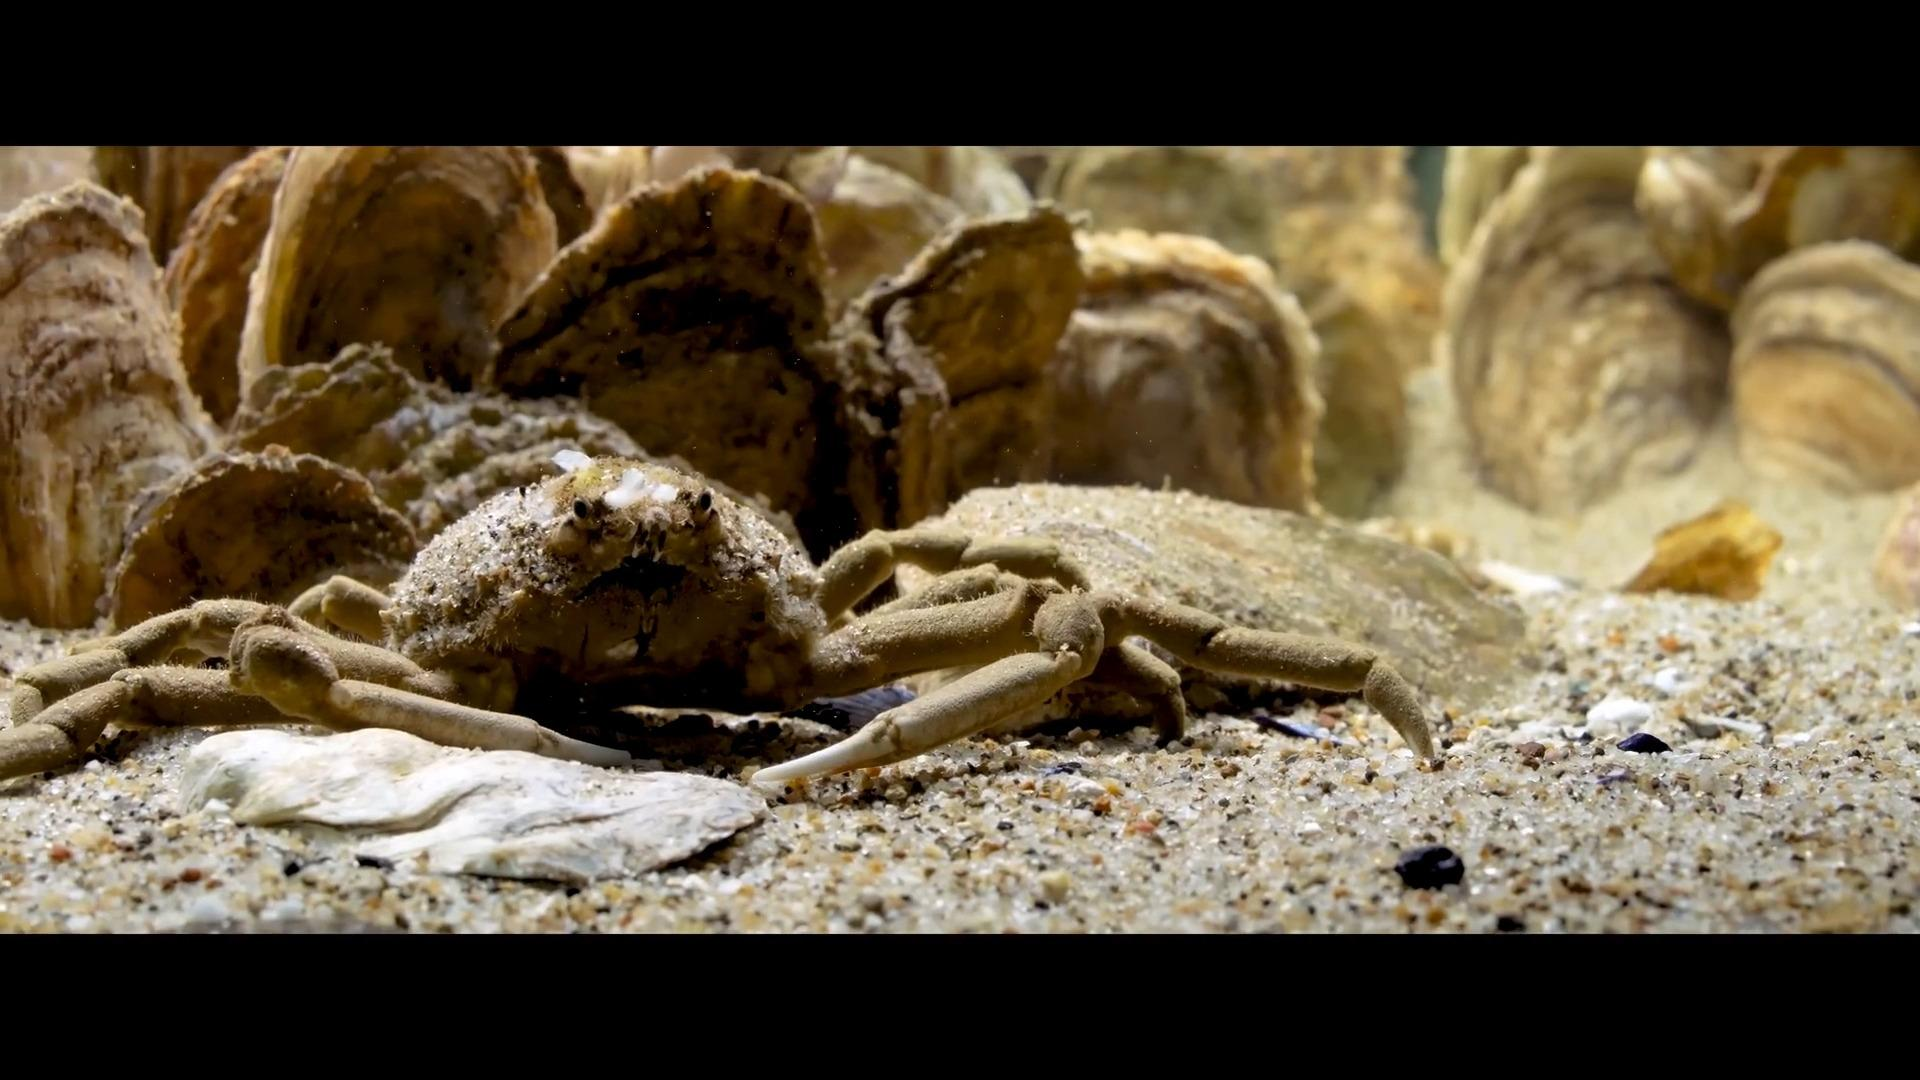Oyster: (488, 165, 853, 535), (1443, 146, 1727, 517), (0, 185, 215, 625), (828, 200, 1085, 530), (237, 142, 556, 404), (1039, 225, 1320, 514), (1261, 152, 1449, 520), (96, 448, 415, 638), (1731, 241, 1919, 493), (160, 150, 289, 434), (1743, 145, 1920, 269), (1635, 150, 1751, 309)
